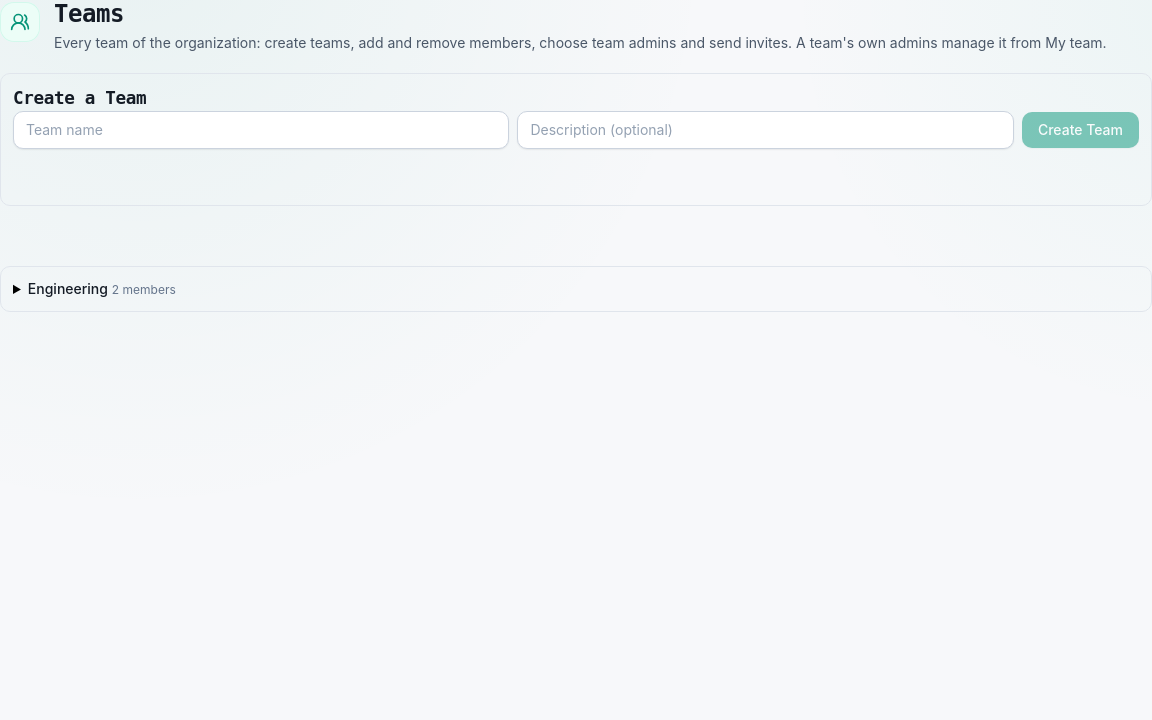
Test: TeamsPage › lets a member outside the team ask to join it (client#126 Q4)
Step 1. Click the text "Engineering" → (68, 288), box [28, 280, 108, 297]
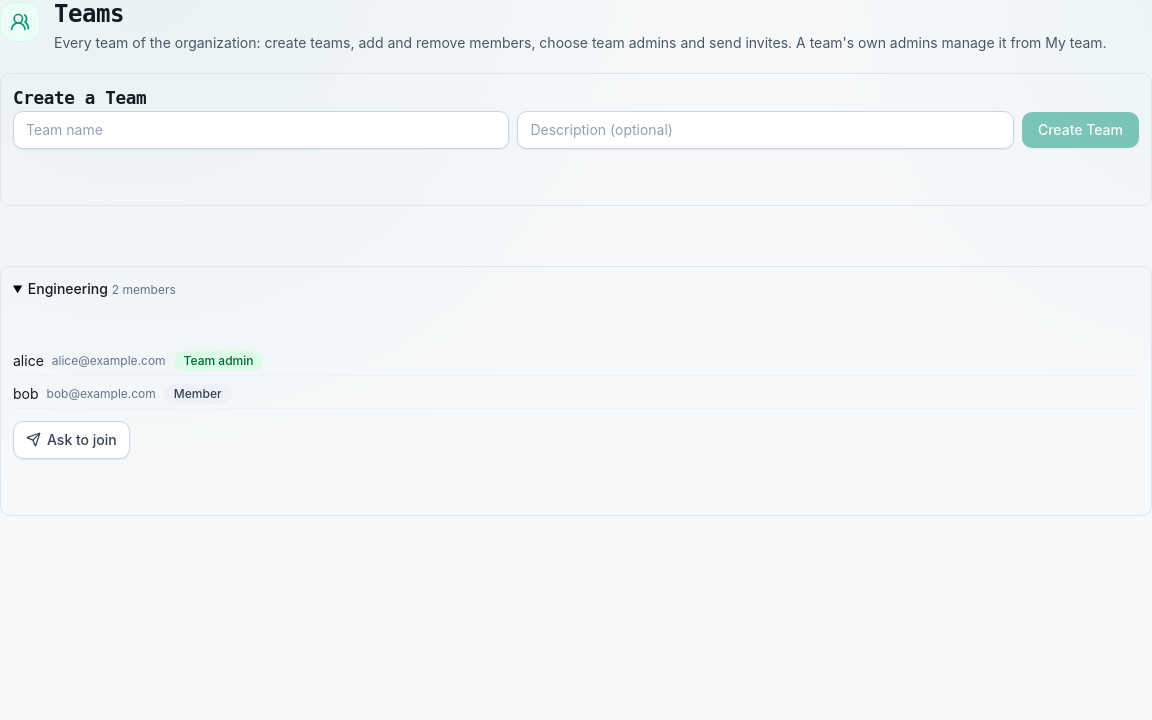
Step 2. Click the button with aria-label "Ask to join: Engineering" → (71, 440), box [13, 421, 130, 459]
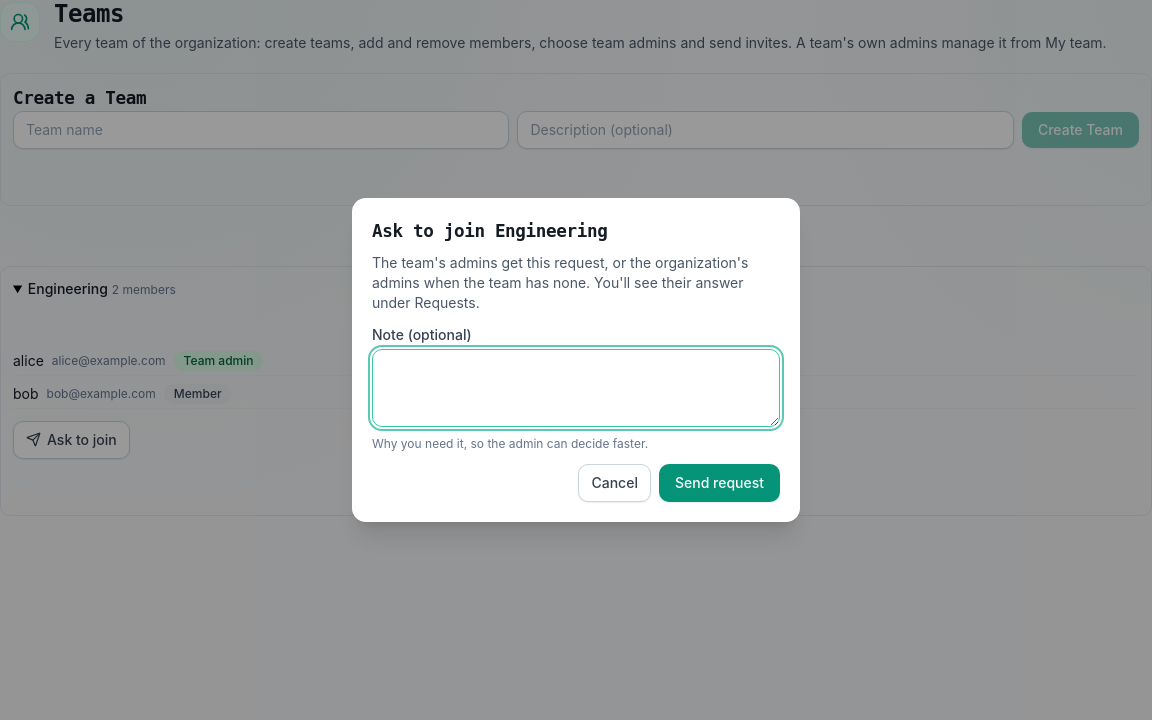
Step 3. Click the button "Send request" → (719, 483), box [659, 464, 780, 502]
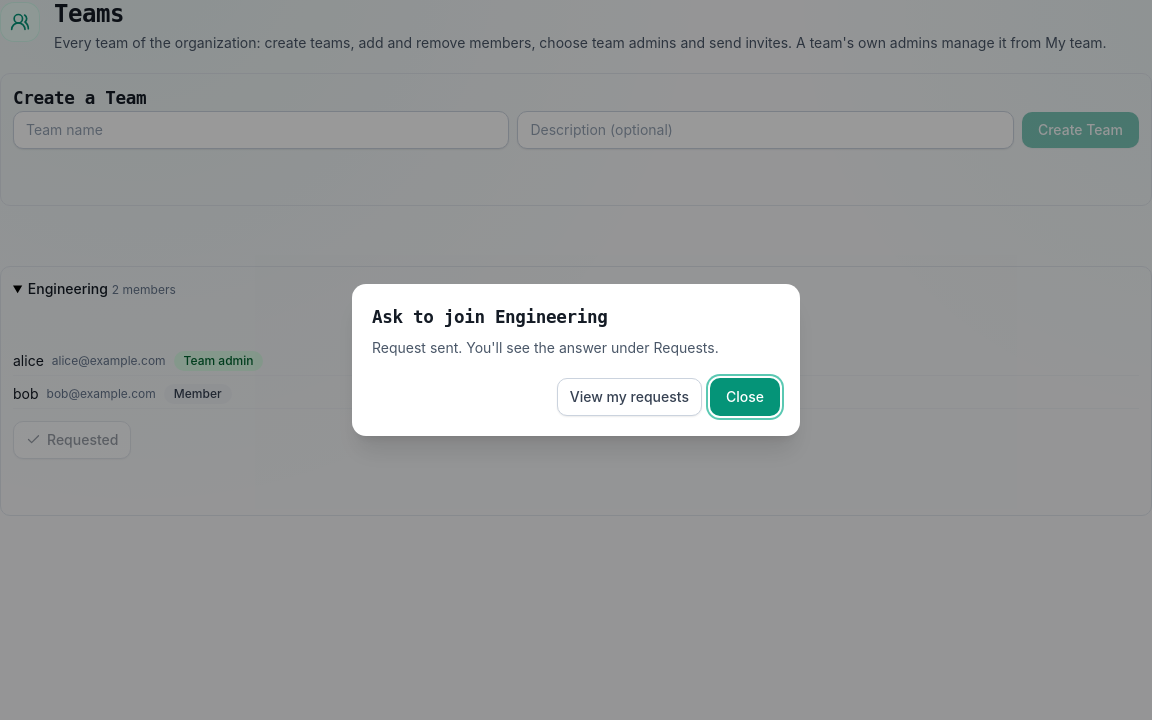
Now the text "Request sent. You'll see the answer under Requests." is shown, box [372, 339, 719, 356]
